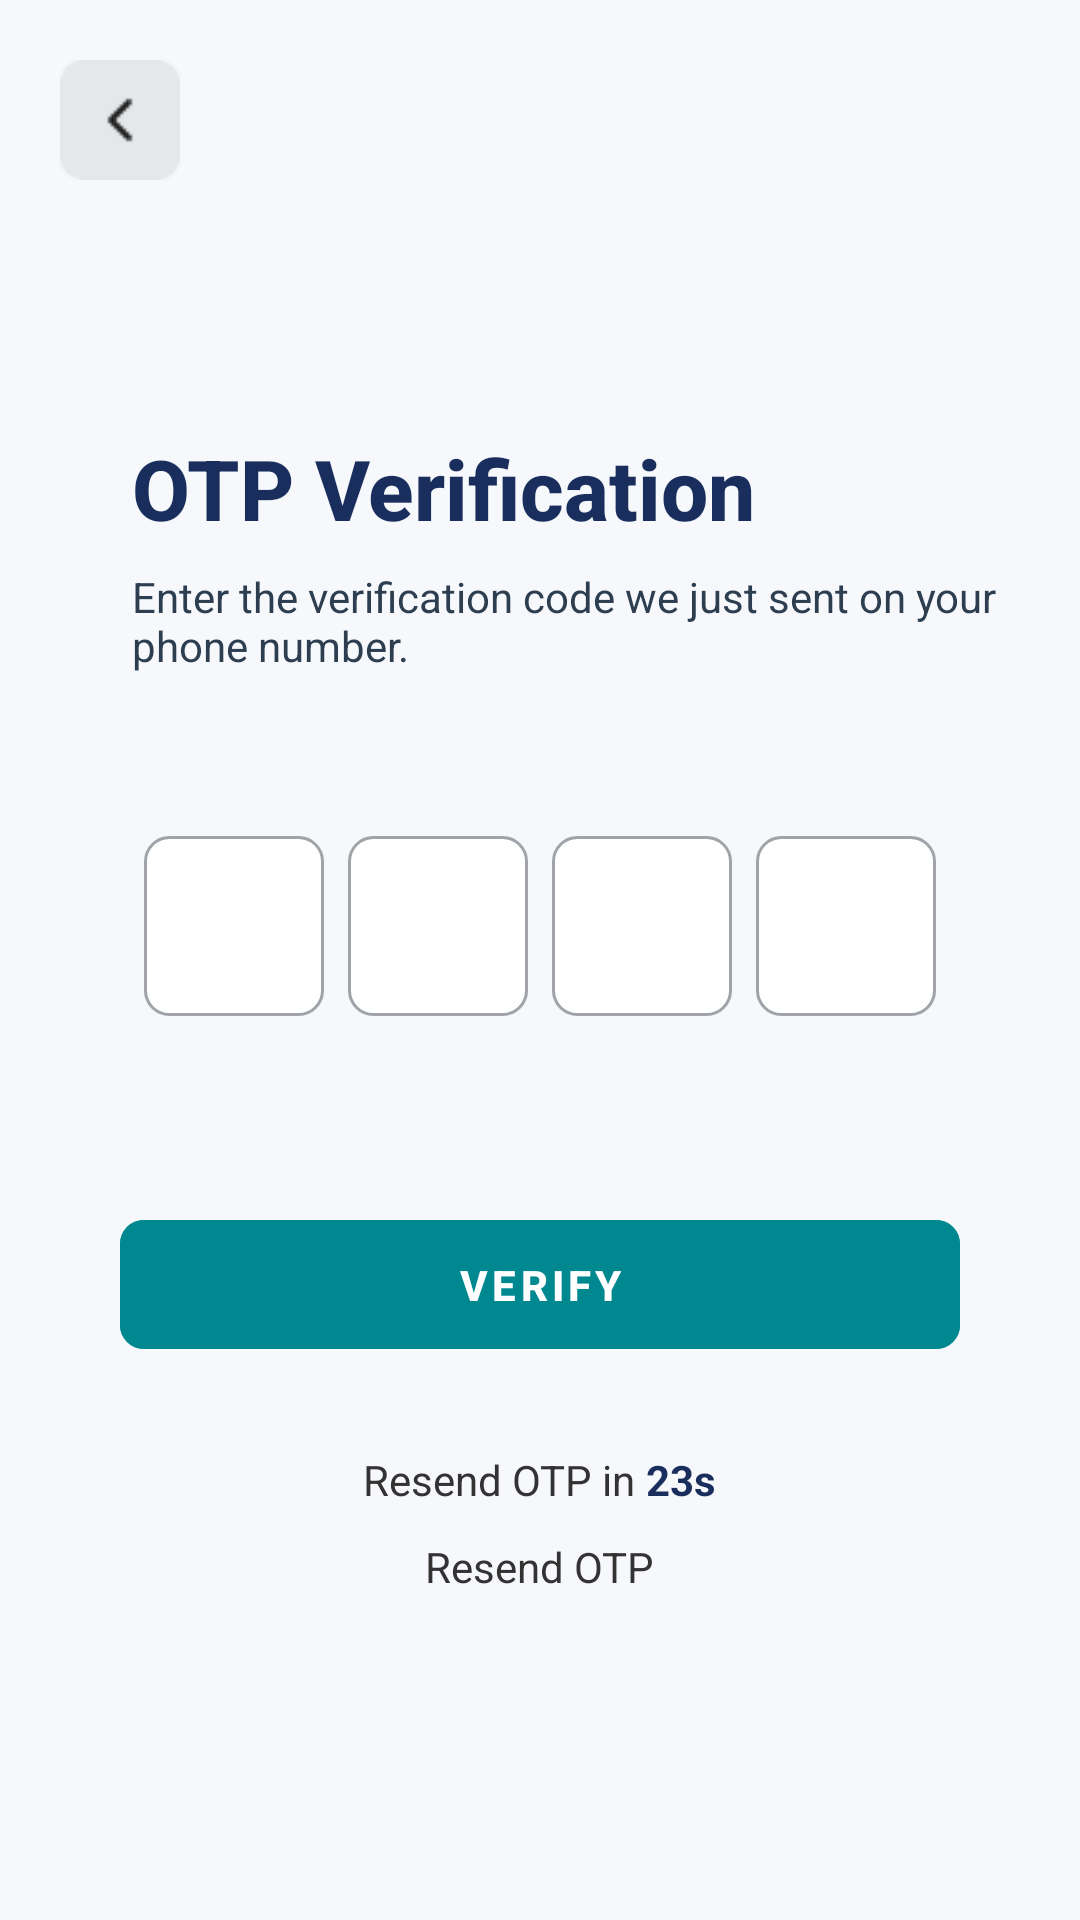

Icon bounding boxes for this 1080w x 1920h phone screenshot, format (x1, y1, x2, y2):
backarrow: (107, 98, 133, 142)
